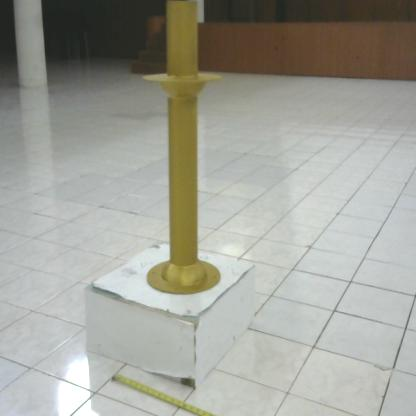pole: (135, 1, 231, 303)
